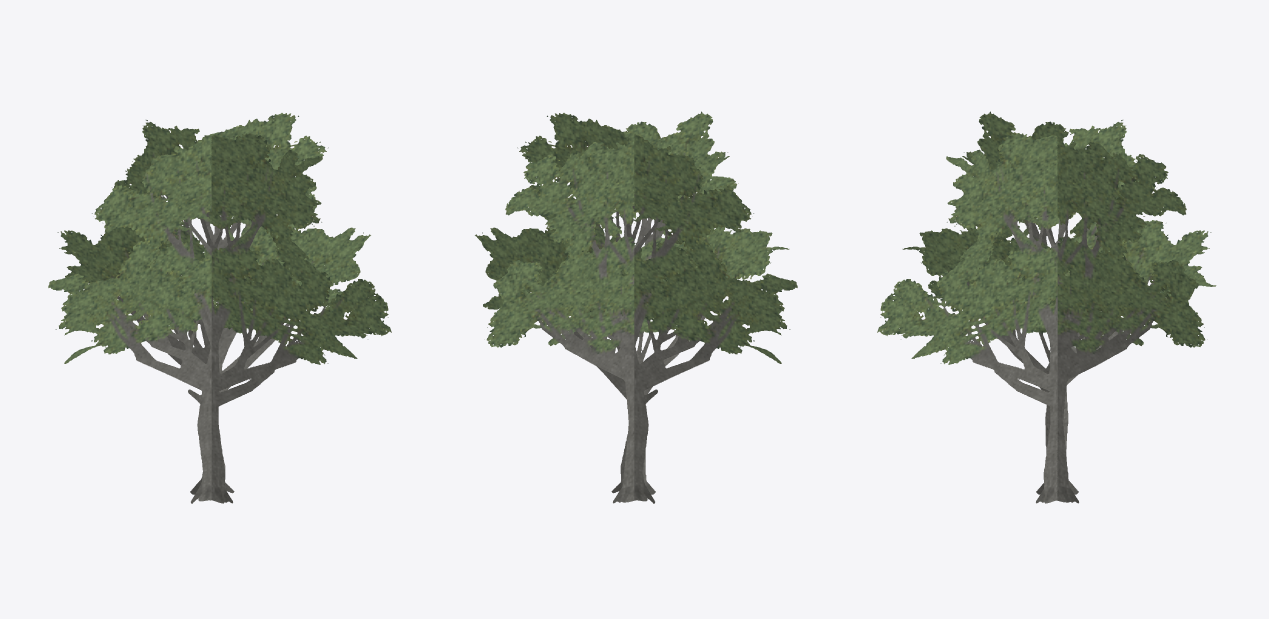
The model's file is ash-far.glb.
The picture shows the model from 3 angles, left to right: view 1: azimuth 30°, elevation 25°; view 2: azimuth 150°, elevation 25°; view 3: azimuth 270°, elevation 25°; orthographic projection.
Visible parts, largest first — view 1: ash-far; view 2: ash-far; view 3: ash-far.
Boxes of the visible parts, bbox=[...] form: ash-far: bbox=[48, 113, 391, 503]; ash-far: bbox=[475, 111, 797, 503]; ash-far: bbox=[877, 111, 1216, 503].
Bounding box in the file's own units: 7.58 × 7.31 × 6.57.
Materials: 1 (1 with a texture image).
